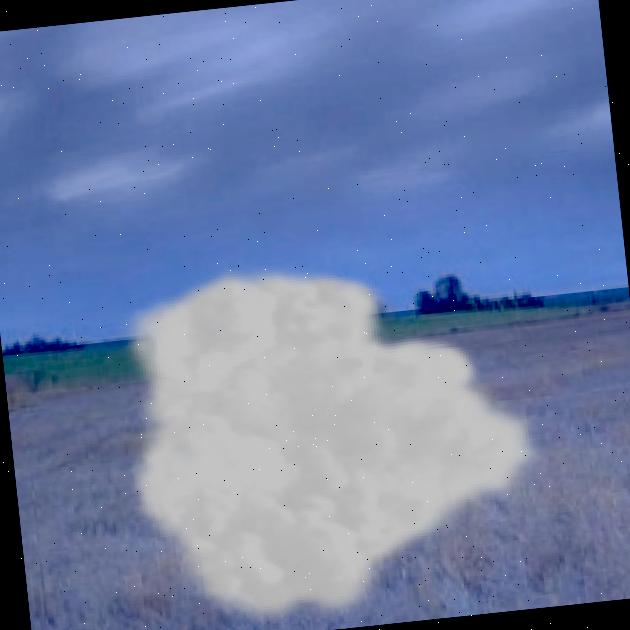smoke: (107, 235, 563, 630)
